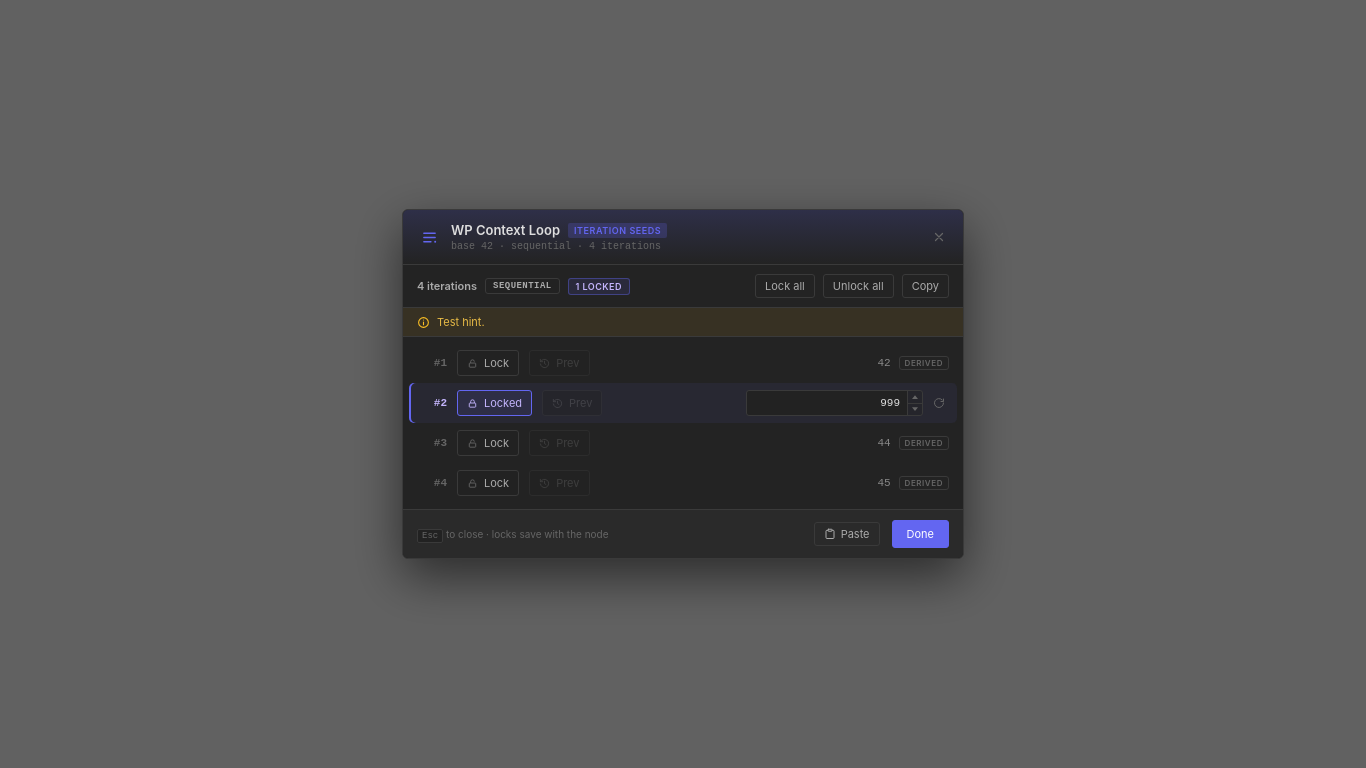
Scenario: SeedListModal › Copy flashes a 'Copied' indicator on click
Click the button with test id "mx-seed-copy" at (925, 286), box [902,274,949,298]
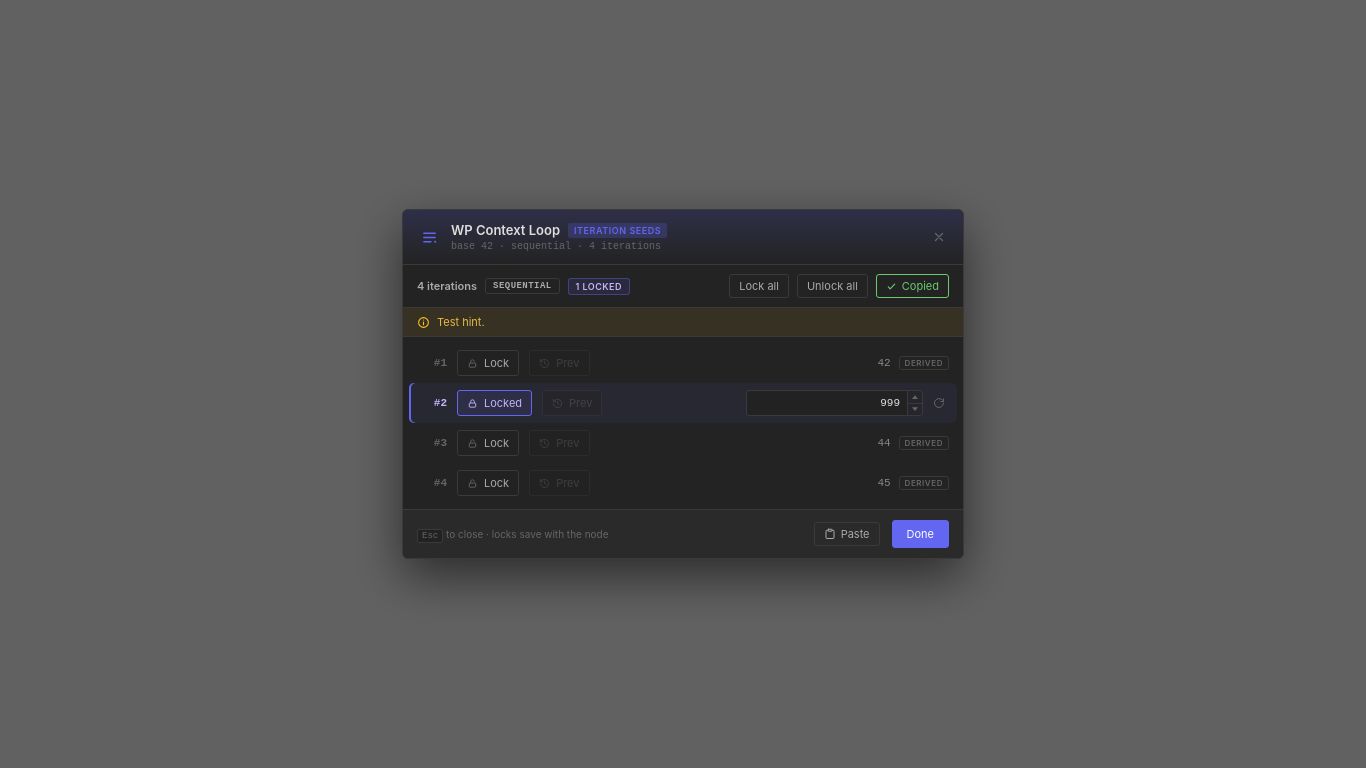
Expected: the button with test id "mx-seed-copy" reads "Copied", [876,274,949,298]
